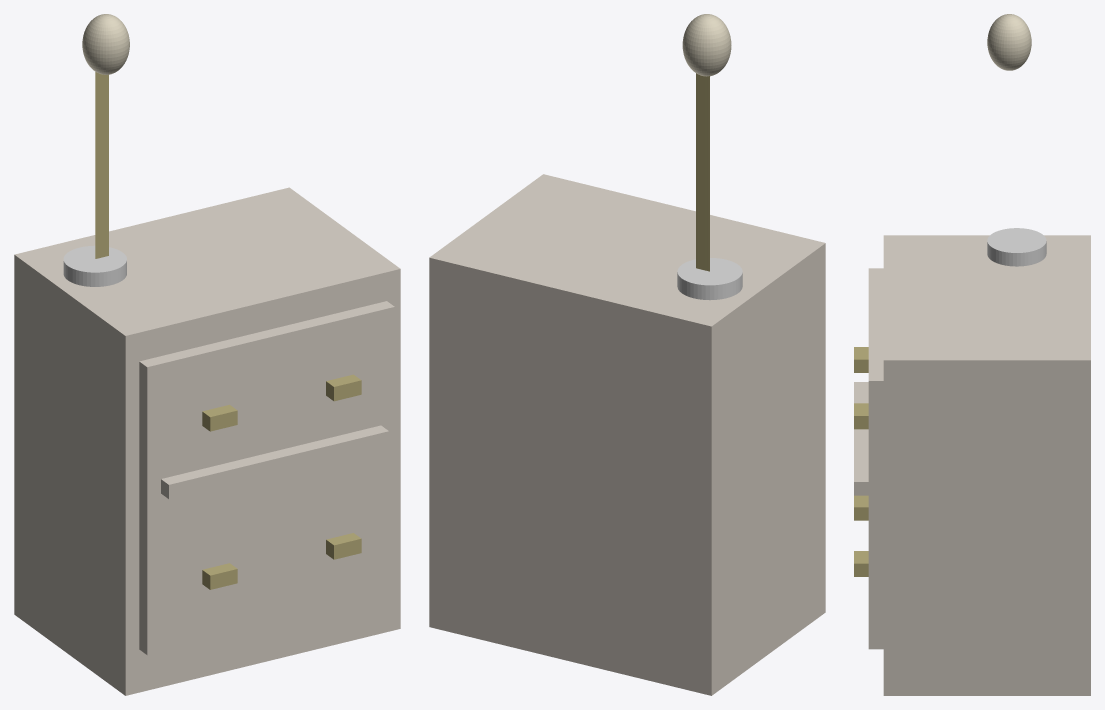
The model's file is Dazzling Jaiks-Elzing.glb.
3 renders of one model, left to right at view 1: azimuth 30°, elevation 25°; view 2: azimuth 150°, elevation 25°; view 3: azimuth 270°, elevation 25°, orthographic. The views are drawn at different scales.
Parts seen in each view (by area): view 1: Mesh_Mesh_head_geo.001_lambert2SG.001; view 2: Mesh_Mesh_head_geo.001_lambert2SG.001; view 3: Mesh_Mesh_head_geo.001_lambert2SG.001.
Boxes of the visible parts, x1,y1,x2,y2 form: Mesh_Mesh_head_geo.001_lambert2SG.001: (14,14,400,695); Mesh_Mesh_head_geo.001_lambert2SG.001: (429,14,825,695); Mesh_Mesh_head_geo.001_lambert2SG.001: (854,14,1090,695).
Bounding box in the file's own units: 0.02 × 0.043 × 0.016.
